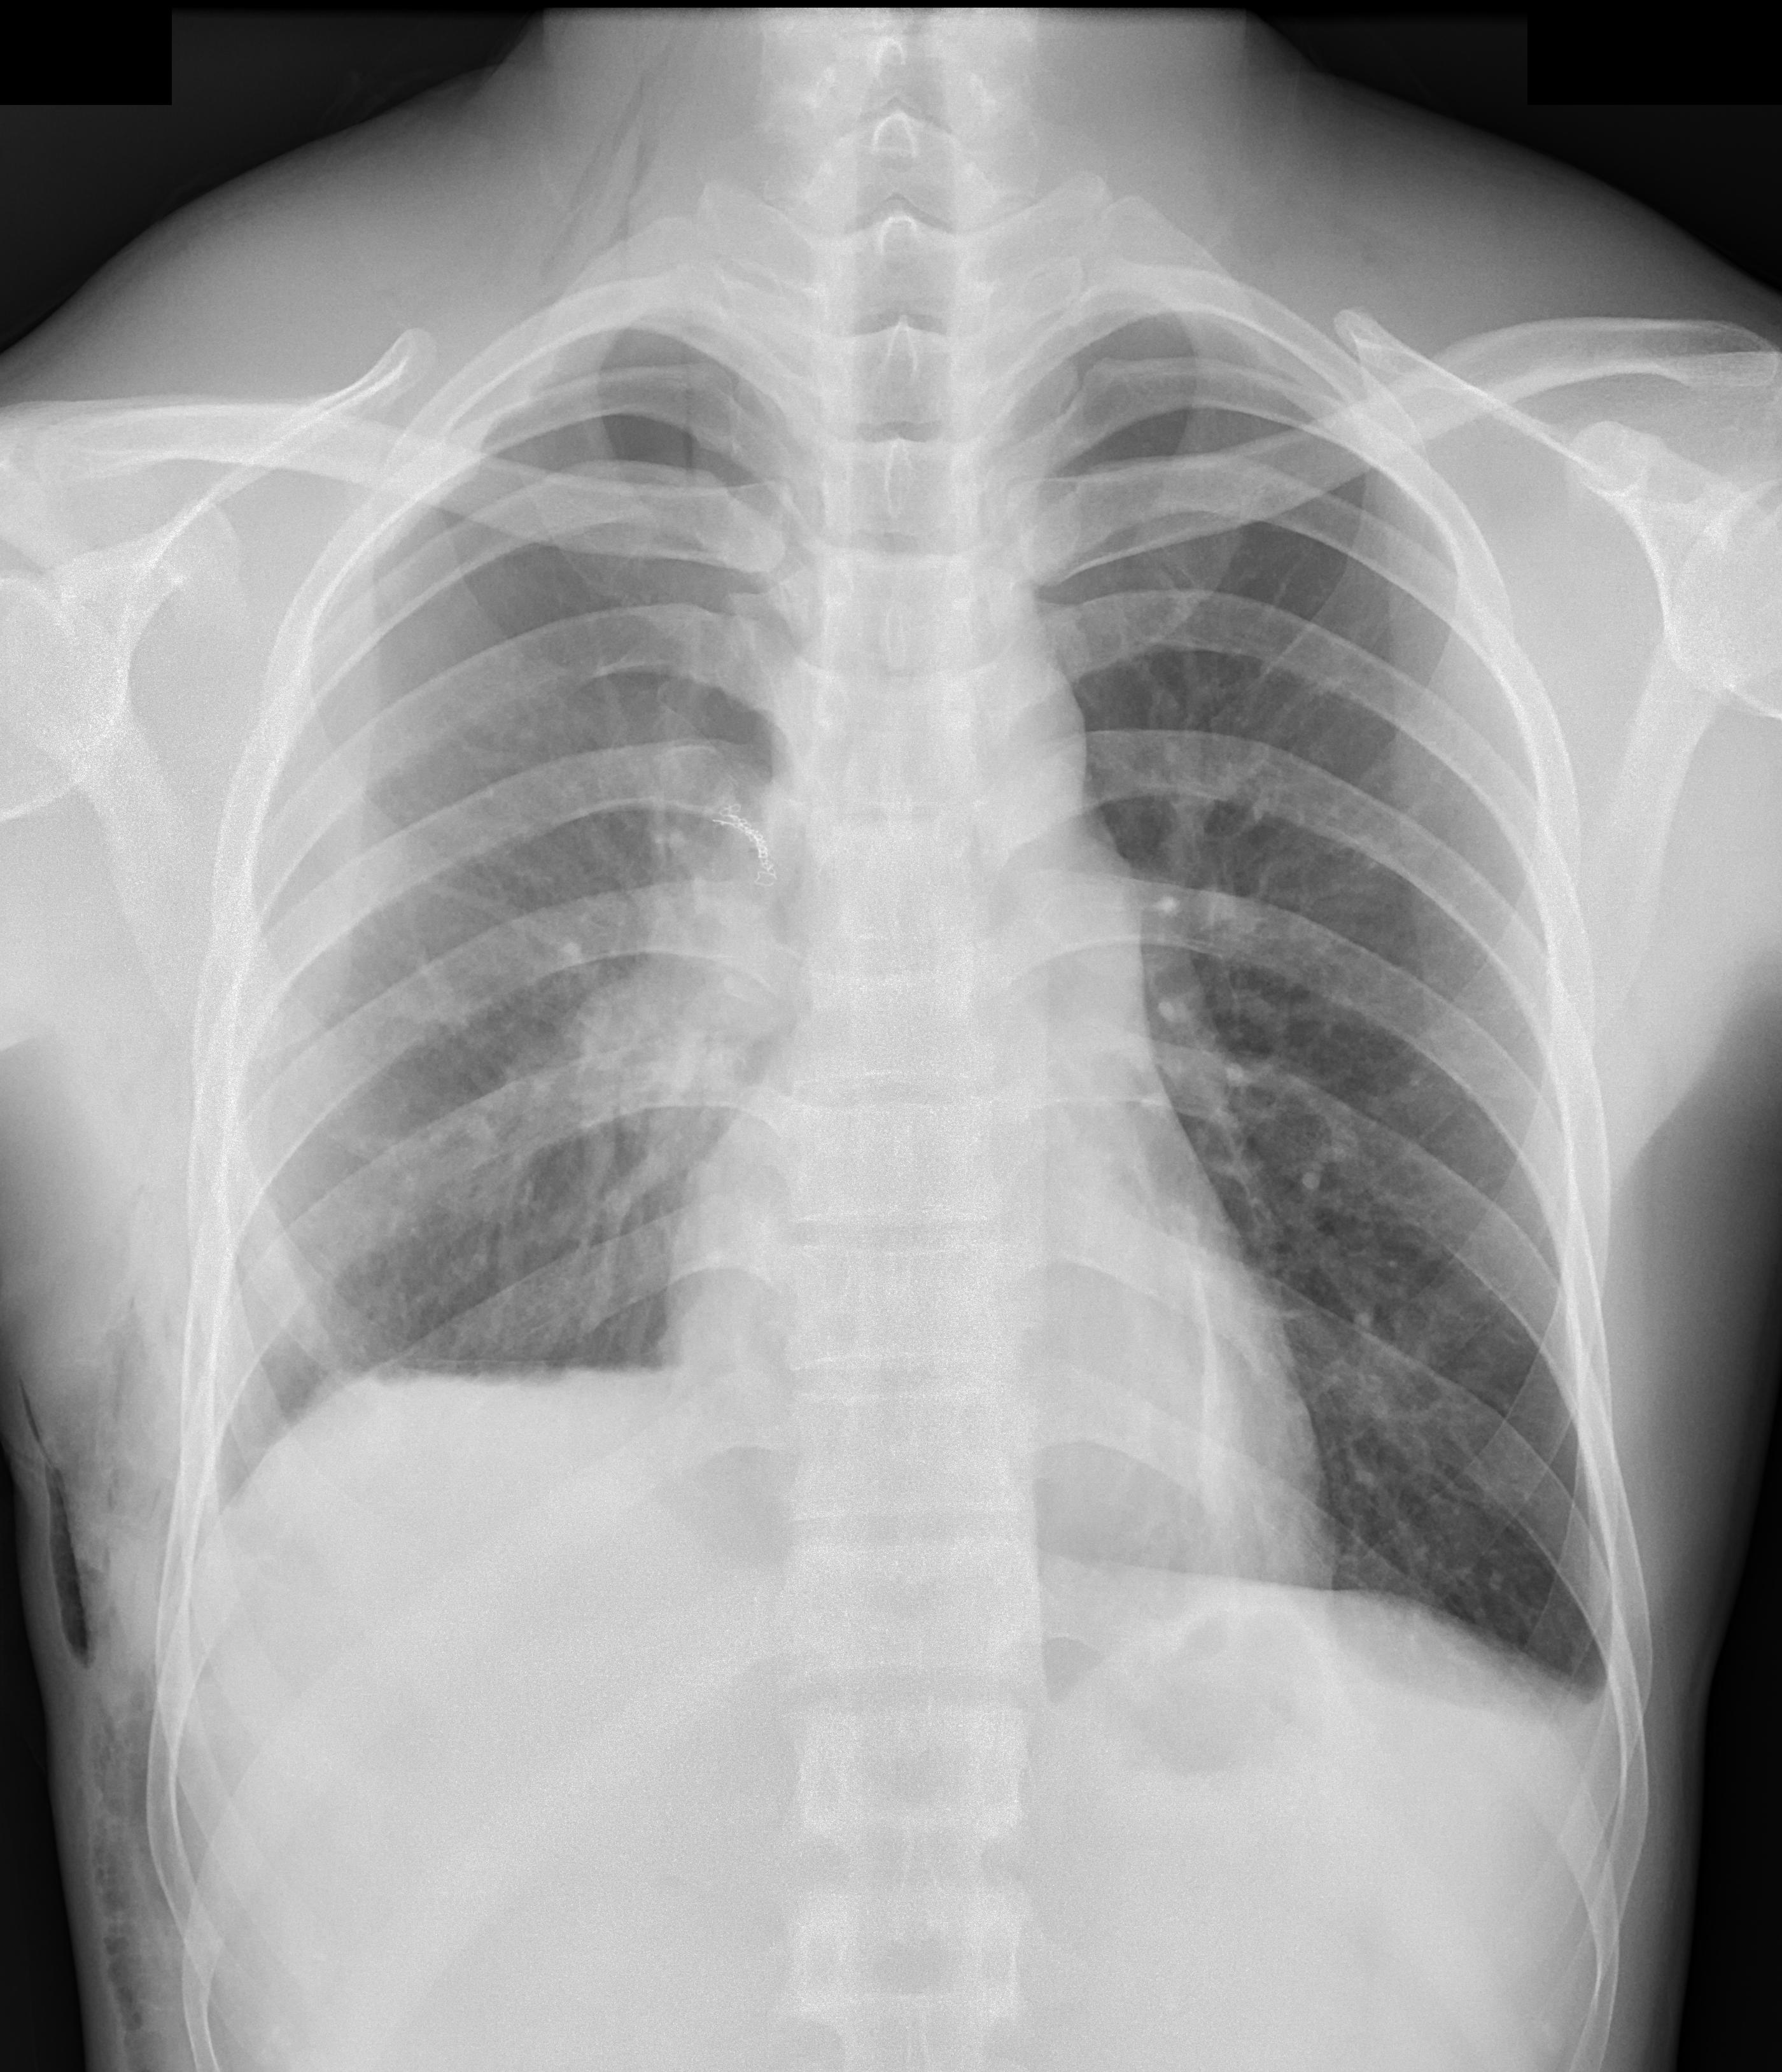other_lesion: (14, 1318, 166, 2019), (202, 1323, 678, 1536), (0, 1351, 99, 1670), (7, 1374, 104, 1674), (287, 1311, 460, 1438)
